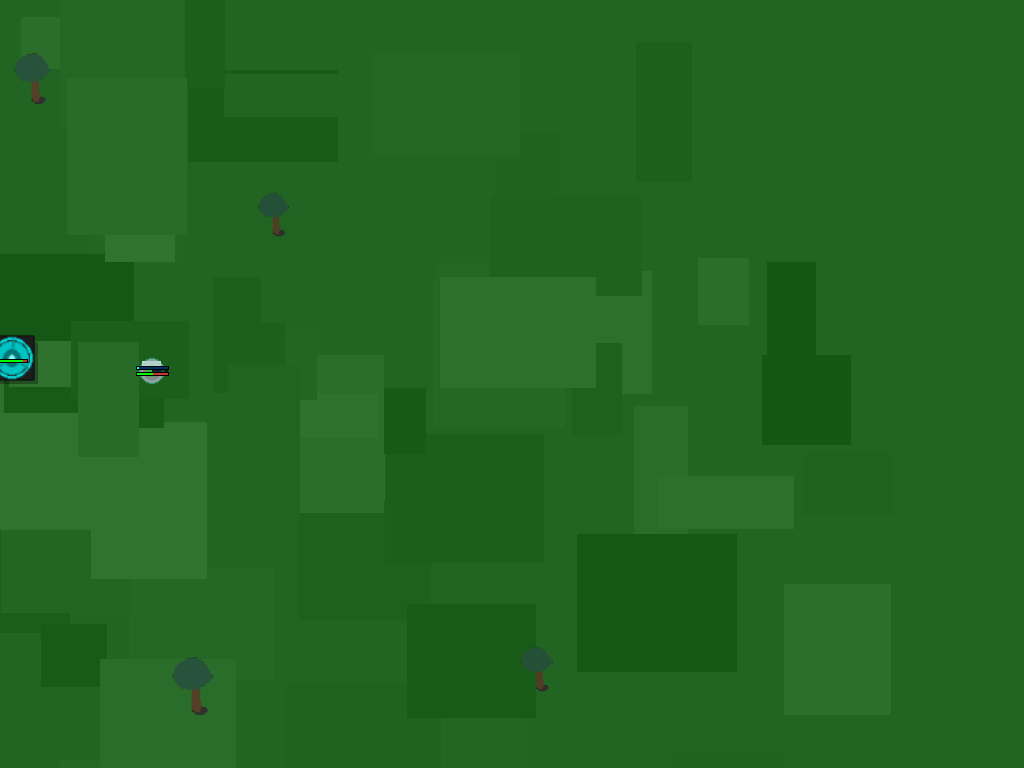LaserTurret: (0, 324, 67, 391)
Shotgunner: (133, 352, 171, 390)
